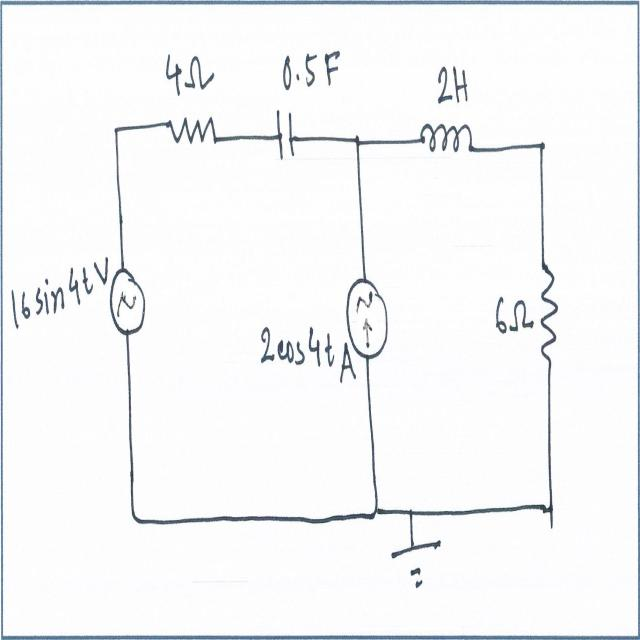ac_current: (105, 266, 151, 346)
capacitor: (272, 106, 298, 163)
current_source: (343, 276, 391, 363)
ground: (388, 531, 449, 603)
inductor: (414, 119, 478, 164)
resistor: (538, 251, 562, 371), (163, 111, 220, 154)
